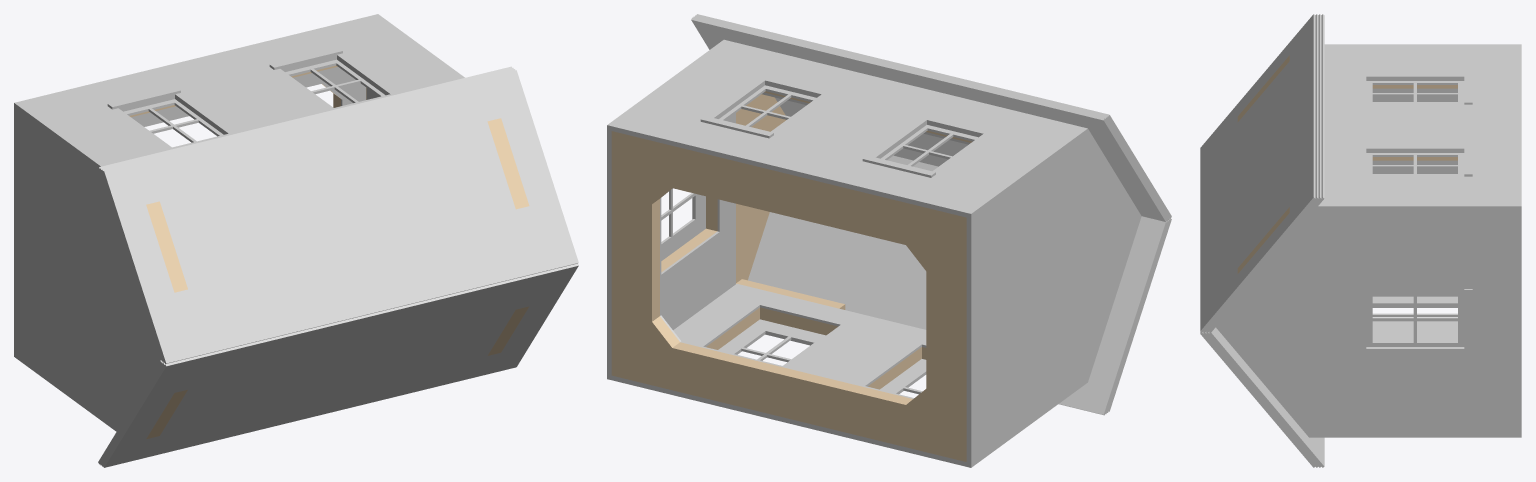
The picture shows the model from 3 angles, left to right: view 1: azimuth 30°, elevation 25°; view 2: azimuth 150°, elevation 25°; view 3: azimuth 270°, elevation 25°; orthographic projection. The views are drawn at different scales.
Parts seen in each view (by area): view 1: house_c6_front_roof_p3_p3_part, house_c5_back_roof_p3_p3_part, house_c4_left_wall_p1_outside_wall_part, house_c1_front_wall_p1_outside_wall_part, house_c3_right_wall_p0_base_wall_part, house_c4_left_wall_p0_base_wall_part, house_c0_floor_p1_inside_floor_part, house_c6_front_roof_p2_p2_part, house_c6_front_roof_p0_p0_part, house_c6_front_roof_p1_p1_part, house_c1_front_wall_c0_window_p0_frame_part, house_c1_front_wall_c1_window_p0_frame_part; view 2: house_c4_left_wall_p1_outside_wall_part, house_c0_floor_p0_base_floor_part, house_c1_front_wall_p1_outside_wall_part, house_c5_back_roof_p0_p0_part, house_c2_back_wall_p2_inside_wall_part, house_c6_front_roof_p0_p0_part, house_c2_back_wall_p0_base_wall_part, house_c3_right_wall_p0_base_wall_part, house_c3_right_wall_p2_inside_wall_part, house_c1_front_wall_p0_base_wall_part, house_c2_back_wall_p1_outside_wall_part, house_c3_right_wall_p1_outside_wall_part (+10 smaller); view 3: house_c3_right_wall_p1_outside_wall_part, house_c1_front_wall_p1_outside_wall_part, house_c6_front_roof_p3_p3_part, house_c3_right_wall_c0_window_p0_frame_part, house_c5_back_roof_p0_p0_part, house_c2_back_wall_p2_inside_wall_part, house_c4_left_wall_p2_inside_wall_part, house_c6_front_roof_p0_p0_part, house_c6_front_roof_p1_p1_part, house_c6_front_roof_p2_p2_part, house_c2_back_wall_c0_window_p0_frame_part, house_c1_front_wall_c0_window_p0_frame_part (+10 smaller).
Part boxes in pixels (x1,y1,x2,y2): house_c6_front_roof_p3_p3_part: (103,70,578,363); house_c5_back_roof_p3_p3_part: (103,263,578,467); house_c4_left_wall_p1_outside_wall_part: (14,102,160,431); house_c1_front_wall_p1_outside_wall_part: (19,15,460,165); house_c3_right_wall_p0_base_wall_part: (487,118,529,355); house_c4_left_wall_p0_base_wall_part: (146,201,187,439); house_c0_floor_p1_inside_floor_part: (133,68,365,126); house_c6_front_roof_p2_p2_part: (101,69,515,362); house_c6_front_roof_p0_p0_part: (98,66,511,360); house_c6_front_roof_p1_p1_part: (100,68,513,361); house_c1_front_wall_c0_window_p0_frame_part: (285,59,384,102); house_c1_front_wall_c1_window_p0_frame_part: (123,99,223,142); house_c4_left_wall_p1_outside_wall_part: (966,127,1141,467); house_c0_floor_p0_base_floor_part: (611,148,966,444); house_c1_front_wall_p1_outside_wall_part: (611,41,1082,217); house_c5_back_roof_p0_p0_part: (748,155,1166,415); house_c2_back_wall_p2_inside_wall_part: (673,284,926,386); house_c6_front_roof_p0_p0_part: (691,17,1166,221); house_c2_back_wall_p0_base_wall_part: (625,279,952,458); house_c3_right_wall_p0_base_wall_part: (611,94,785,378); house_c3_right_wall_p2_inside_wall_part: (661,113,735,329); house_c1_front_wall_p0_base_wall_part: (625,91,972,228); house_c2_back_wall_p1_outside_wall_part: (611,333,966,466); house_c3_right_wall_p1_outside_wall_part: (607,39,727,379); house_c3_right_wall_p1_outside_wall_part: (1216,204,1521,437); house_c1_front_wall_p1_outside_wall_part: (1320,46,1521,204); house_c6_front_roof_p3_p3_part: (1200,14,1315,332); house_c3_right_wall_c0_window_p0_frame_part: (1366,295,1464,346); house_c5_back_roof_p0_p0_part: (1209,327,1324,467); house_c2_back_wall_p2_inside_wall_part: (1372,321,1457,341); house_c4_left_wall_p2_inside_wall_part: (1372,91,1457,173); house_c6_front_roof_p0_p0_part: (1209,14,1324,332); house_c6_front_roof_p1_p1_part: (1206,14,1321,332); house_c6_front_roof_p2_p2_part: (1203,14,1318,332); house_c2_back_wall_c0_window_p0_frame_part: (1372,296,1457,316); house_c1_front_wall_c0_window_p0_frame_part: (1366,153,1464,173).
Size of the model in its own units: 102 by 70.2 by 75.56.
